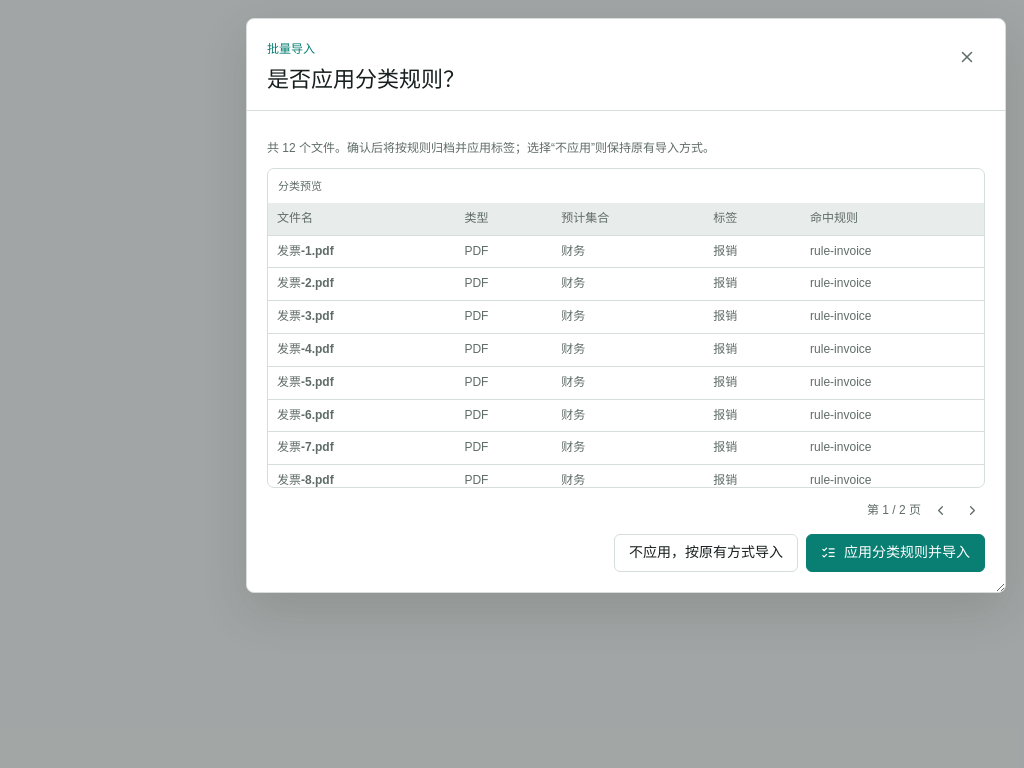
Test: 批量导入的分类预览 › pages the whole batch instead of asking per file
Check: the text "第 1 / 2 页" is shown, box left=867, top=501, right=921, bottom=520
Check: the button named "分类预览上一页" is disabled, box left=927, top=498, right=953, bottom=524
Step 1. Click the button named "分类预览下一页" → x=972, y=511, box left=959, top=498, right=985, bottom=524
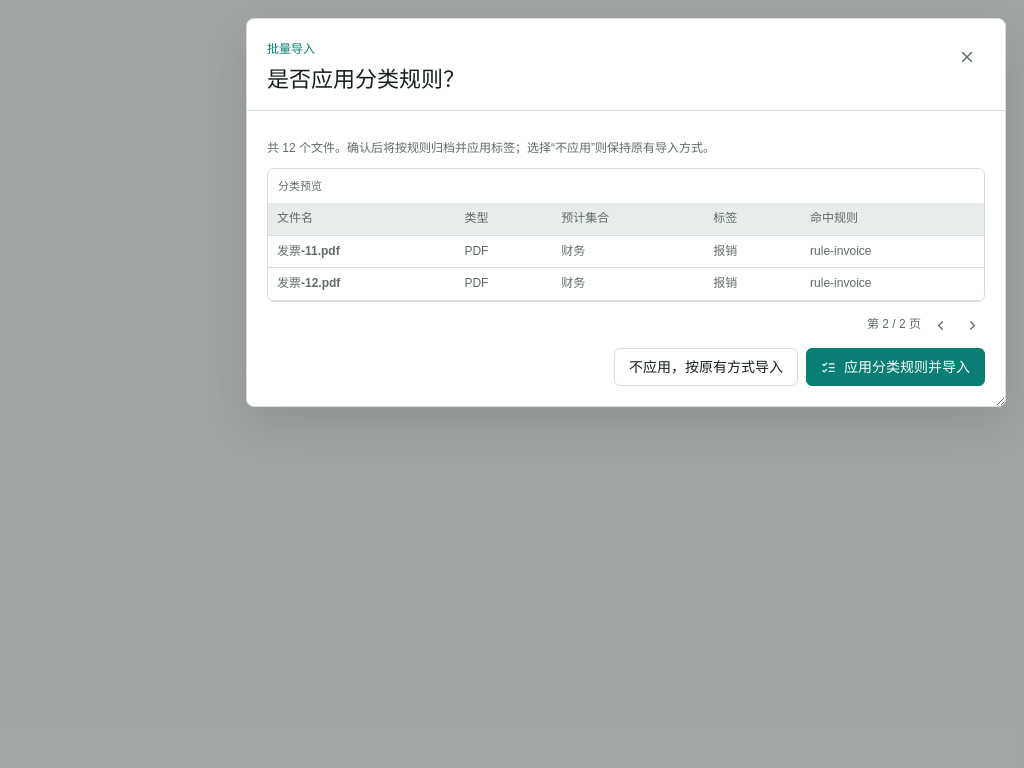
Check: the text "第 2 / 2 页" is shown, box left=867, top=315, right=921, bottom=335
Check: the number of rows is 3, box left=268, top=203, right=984, bottom=235; left=268, top=235, right=984, bottom=268; left=268, top=268, right=984, bottom=301
Check: the button named "分类预览下一页" is disabled, box left=959, top=312, right=985, bottom=338
